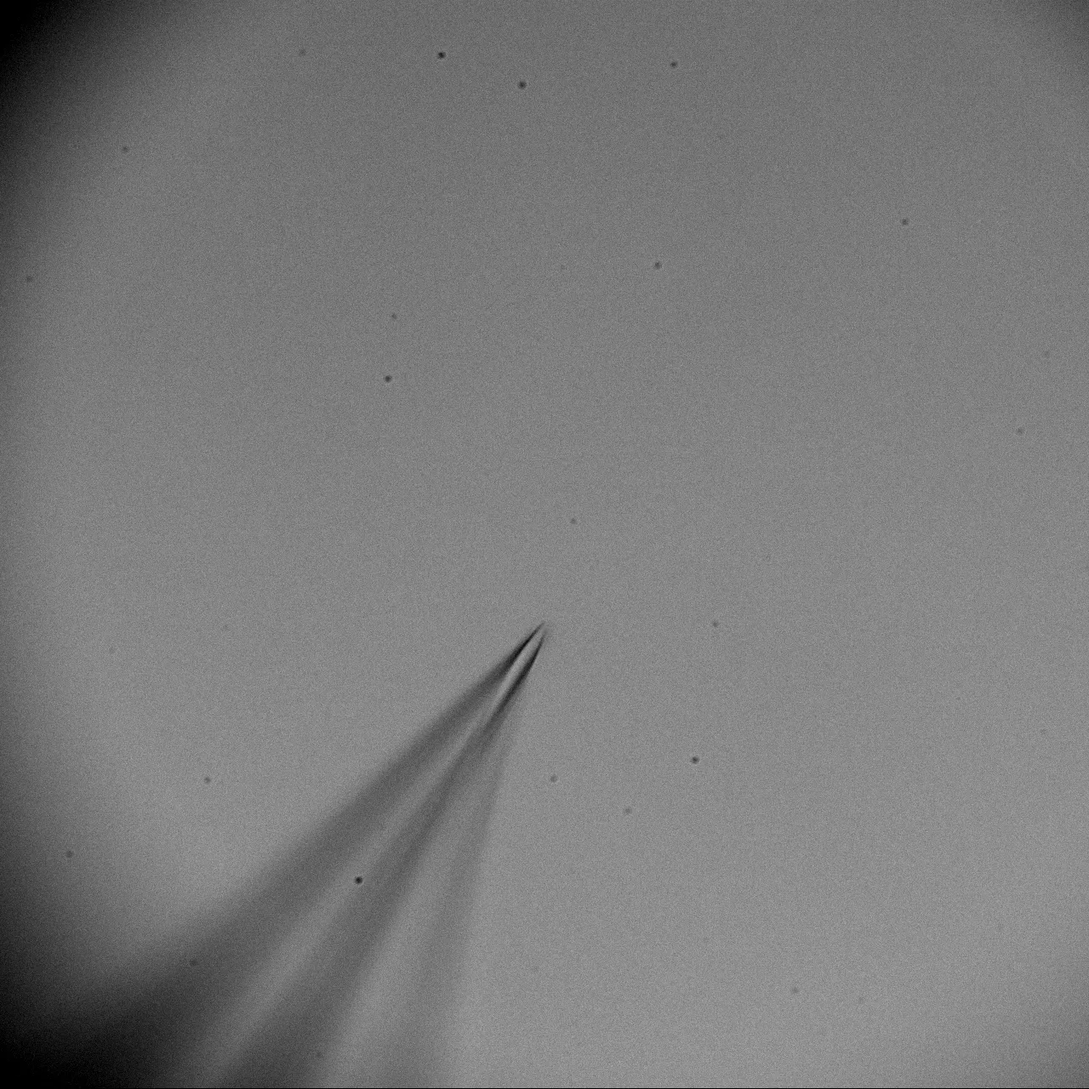tip: (461, 598, 586, 727)
